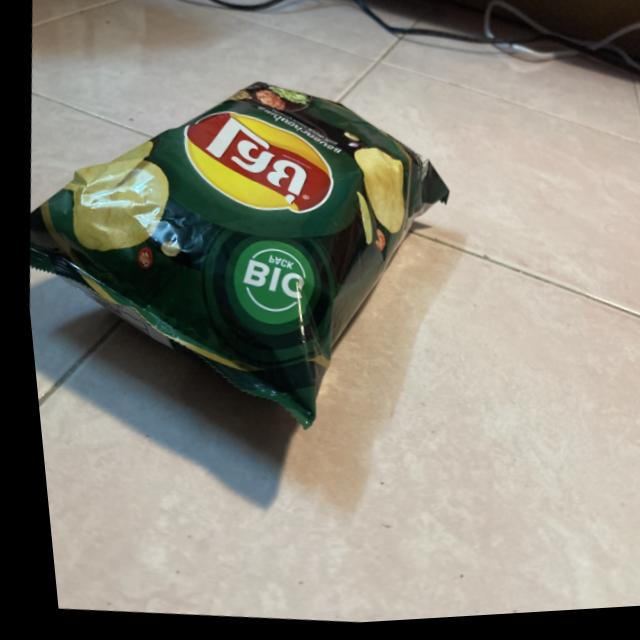Laygreen: (4, 34, 512, 458)
